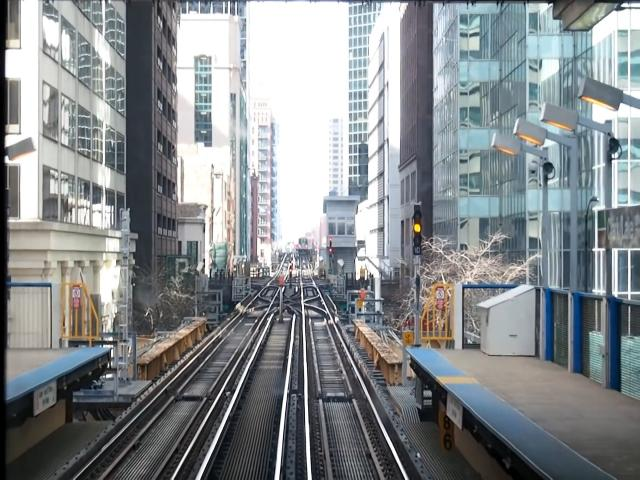signal light: (413, 202, 425, 260)
